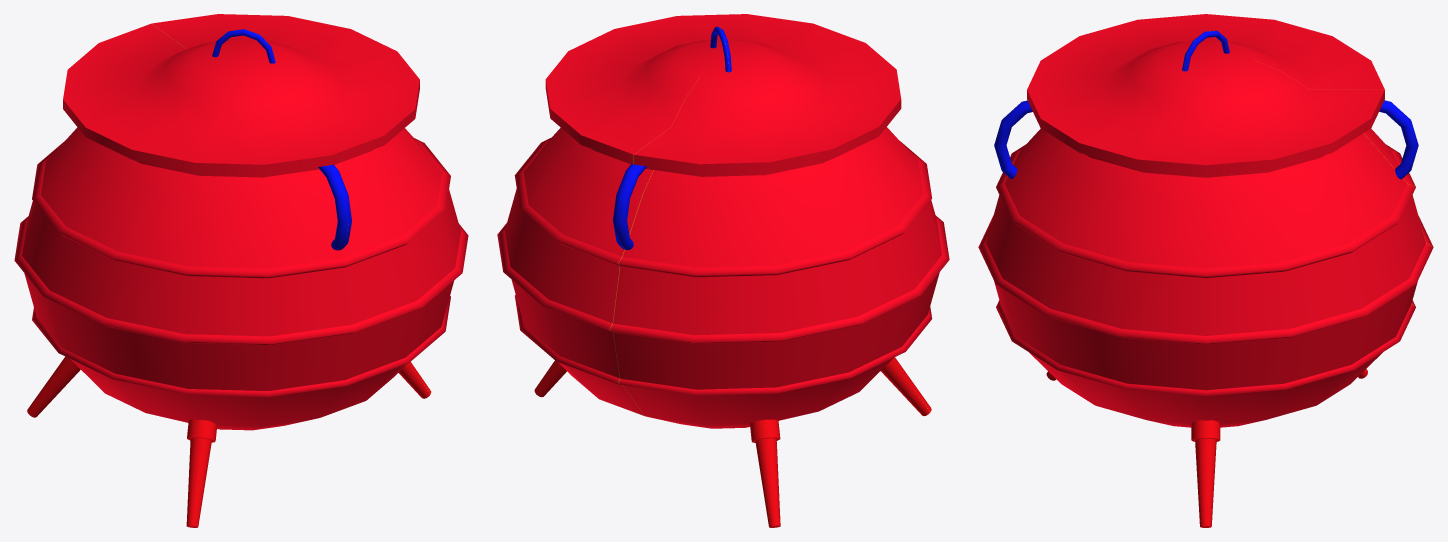
Rendered from Pot4.fbx.
The picture shows the model from 3 angles, left to right: view 1: azimuth 30°, elevation 25°; view 2: azimuth 150°, elevation 25°; view 3: azimuth 270°, elevation 25°; orthographic projection.
Parts seen in each view (by area): view 1: CastIronPot; view 2: CastIronPot; view 3: CastIronPot.
Boxes of the visible parts, left/top/right/bottom form: CastIronPot: left=14, top=14, right=468, bottom=527; CastIronPot: left=497, top=14, right=949, bottom=527; CastIronPot: left=978, top=14, right=1433, bottom=527.
Size of the model in its own units: 30.86 by 30.65 by 30.86.
Materials: 1 (1 with a texture image).
